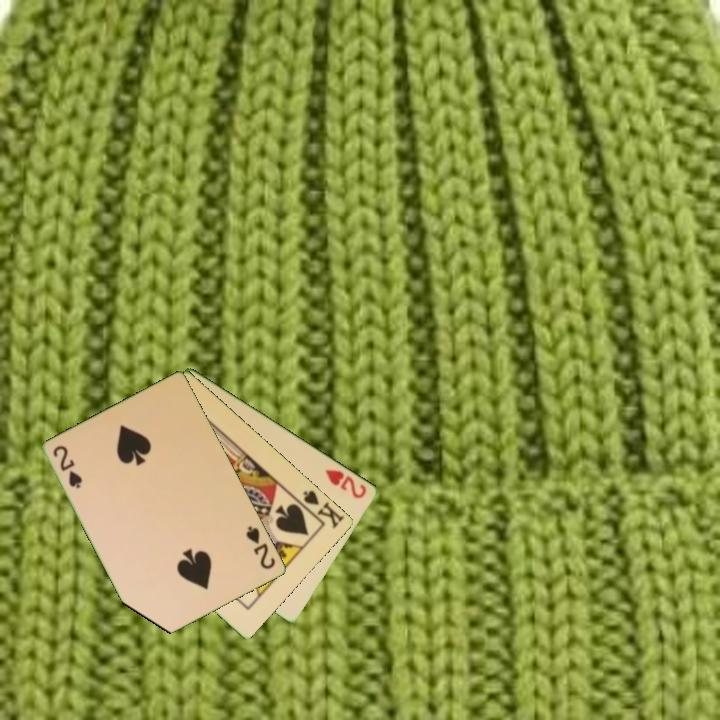2h: (322, 466, 370, 501)
2s: (243, 522, 279, 572), (50, 442, 86, 491)
Ks: (293, 486, 347, 531)
